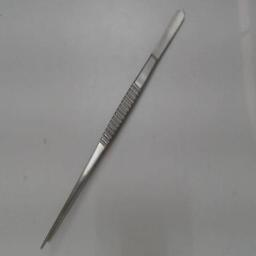DeBakey Dissector: (32, 4, 196, 254)
